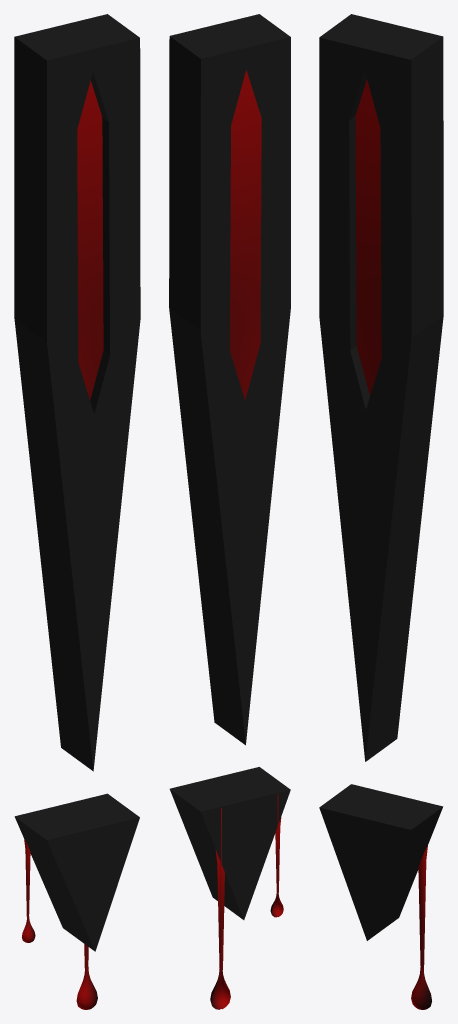
The model's file is Exclamation.FBX.
3 views of the same model, side by side, from view 1: azimuth 30°, elevation 25°; view 2: azimuth 210°, elevation 25°; view 3: azimuth 330°, elevation 25° (orthographic). The views are drawn at different scales.
Visible parts, largest first — view 1: Exclamation, Exclamation_Element, Blood_406, Blood_409; view 2: Exclamation, Exclamation_Element, Blood_406, Blood_409; view 3: Exclamation, Exclamation_Element, Blood_406.
Boxes of the visible parts, left/top/right/bottom form: Exclamation: left=14, top=14, right=140, bottom=951; Exclamation_Element: left=77, top=80, right=103, bottom=400; Blood_406: left=76, top=944, right=97, bottom=1009; Blood_409: left=22, top=839, right=35, bottom=942; Exclamation: left=169, top=14, right=290, bottom=919; Exclamation_Element: left=230, top=70, right=261, bottom=400; Blood_406: left=210, top=808, right=230, bottom=1009; Blood_409: left=270, top=794, right=283, bottom=917; Exclamation: left=319, top=14, right=443, bottom=940; Exclamation_Element: left=355, top=79, right=381, bottom=395; Blood_406: left=411, top=845, right=431, bottom=1009.
Bounding box in the file's own units: 8.31 × 84.03 × 5.01.
Materials: 2 (1 with a texture image).
